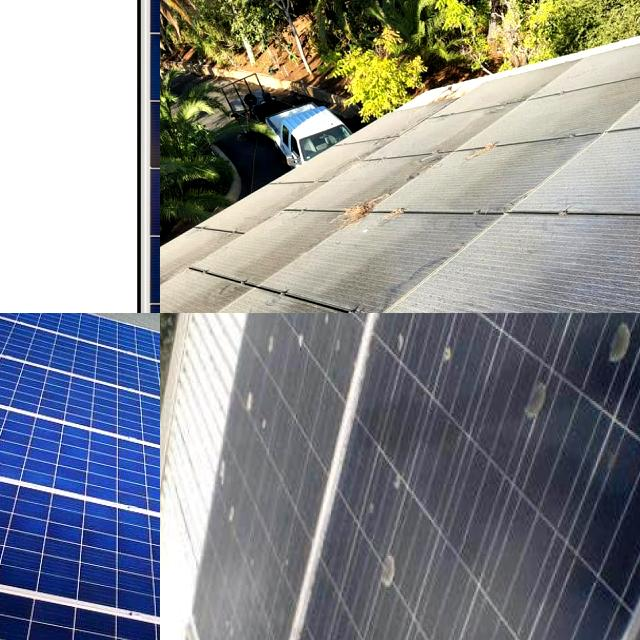crack: (0, 453, 160, 640), (0, 386, 160, 546), (0, 331, 160, 457), (0, 562, 160, 640), (0, 313, 160, 364)
dust: (512, 316, 632, 442), (495, 219, 640, 313), (346, 460, 414, 640), (301, 220, 451, 300), (213, 386, 275, 563), (396, 100, 520, 167), (393, 313, 481, 402), (182, 230, 272, 302), (418, 149, 526, 207), (559, 56, 640, 129), (586, 118, 640, 201), (253, 313, 349, 355)
